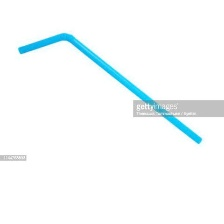drinking_straw: (13, 27, 205, 148)
